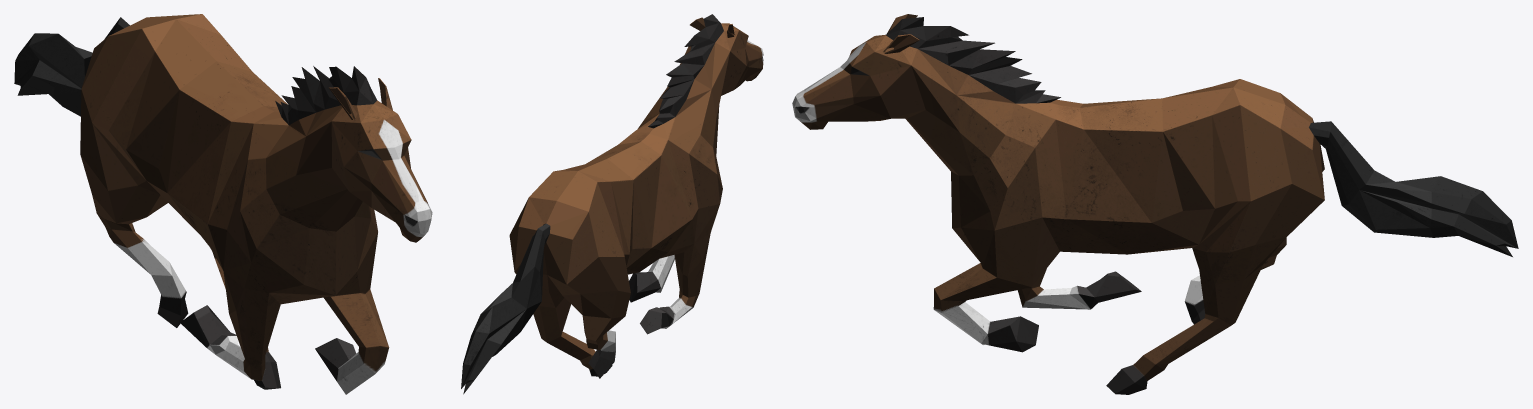
File: Give this horse a farm.glb
The picture shows the model from 3 angles, left to right: view 1: azimuth 30°, elevation 25°; view 2: azimuth 150°, elevation 25°; view 3: azimuth 270°, elevation 25°; orthographic projection. The views are drawn at different scales.
Parts seen in each view (by area): view 1: horse.1; view 2: horse.1; view 3: horse.1.
Part boxes in pixels (x1,y1,x2,y2): horse.1: [14, 14, 432, 394]; horse.1: [461, 14, 763, 394]; horse.1: [792, 14, 1518, 394].
Size of the model in its own units: 0.1608 by 0.4258 by 0.7652.
1 material, 1 textured.
